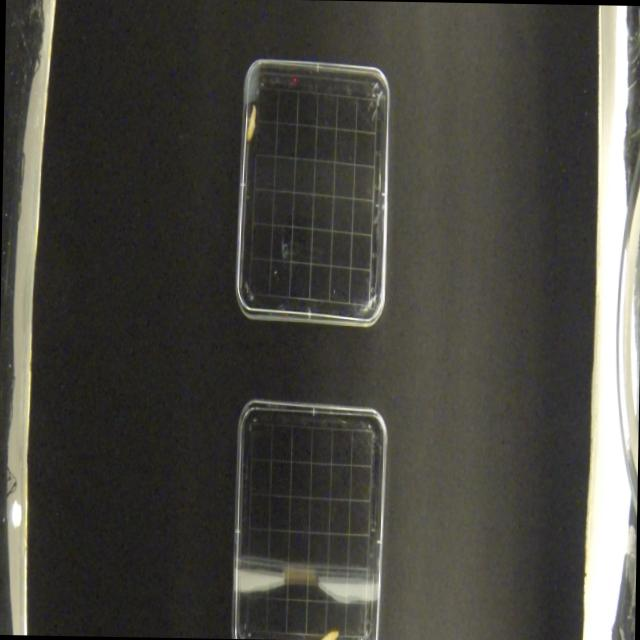larva: (244, 101, 258, 148), (306, 628, 341, 640)
